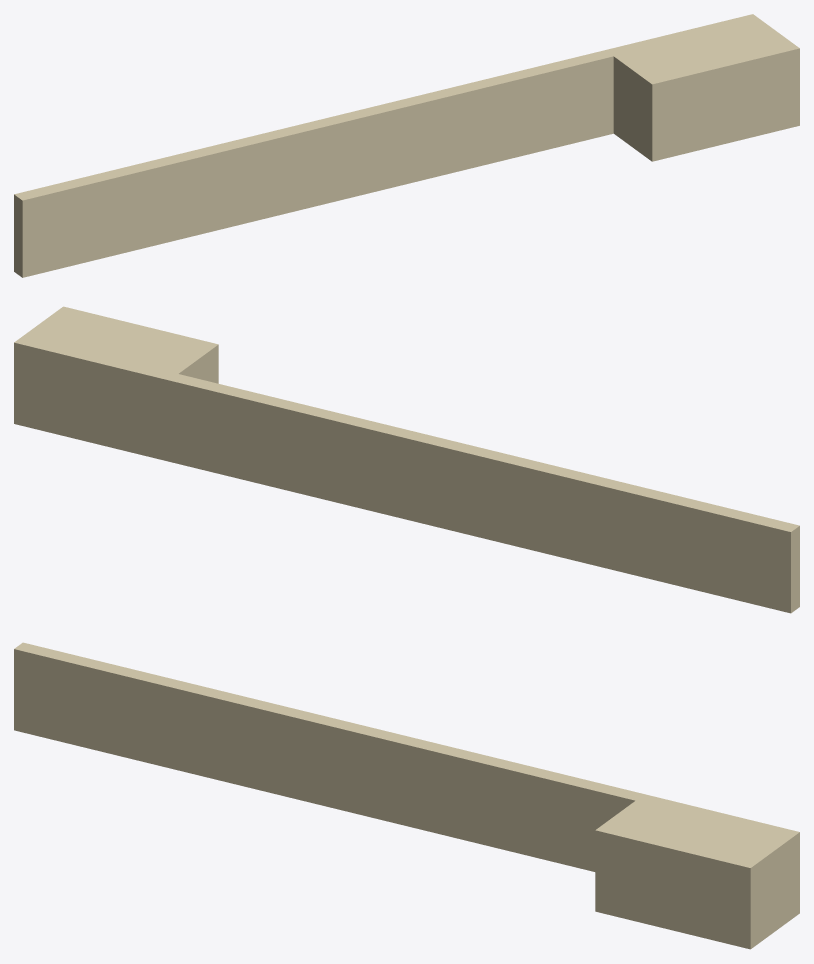
Rendered from tps-wiper.glb.
The picture shows the model from 3 angles, top to bottom: view 1: azimuth 30°, elevation 25°; view 2: azimuth 150°, elevation 25°; view 3: azimuth 330°, elevation 25°; orthographic projection. The views are drawn at different scales.
Visible parts, largest first — view 1: world; view 2: world; view 3: world.
Boxes of the visible parts, x1,y1,x2,y2 form: world: (14, 14, 799, 277); world: (14, 306, 799, 613); world: (14, 642, 799, 949).
Bounding box in the file's own units: 0.01 × 0.001 × 0.0011.
